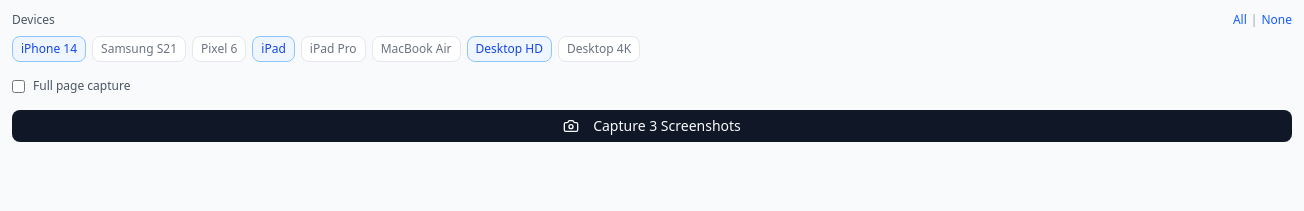
Scenario: Screenshot capture › capturing with regular URL › should show error message on API failure
Click the button "Capture 3 Screenshots" at (652, 126), box [12, 110, 1292, 142]
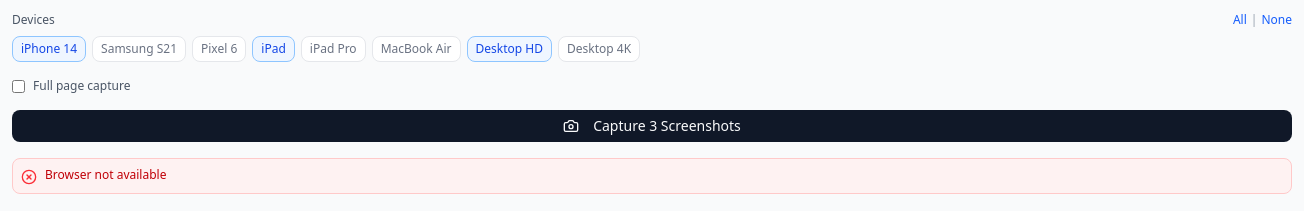
Expected: the text "Browser not available" is shown, [45, 167, 166, 183]
